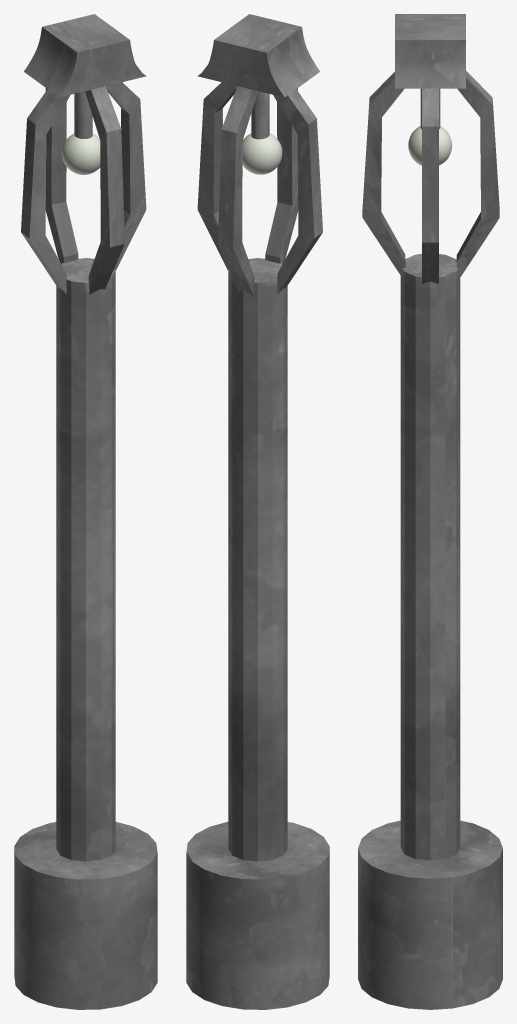
Rendered from Lamp_Post.fbx.
3 views of the same model, side by side, from view 1: azimuth 30°, elevation 25°; view 2: azimuth 150°, elevation 25°; view 3: azimuth 270°, elevation 25° (orthographic).
Visible parts, largest first — view 1: pCylinder4; view 2: pCylinder4; view 3: pCylinder4.
Part boxes in pixels (x1,y1,x2,y2): pCylinder4: (14, 14, 157, 1009); pCylinder4: (186, 14, 329, 1009); pCylinder4: (358, 14, 502, 1009).
Size of the model in its own units: 0.7057 by 5.12 by 0.7057.
2 materials, 1 textured.
